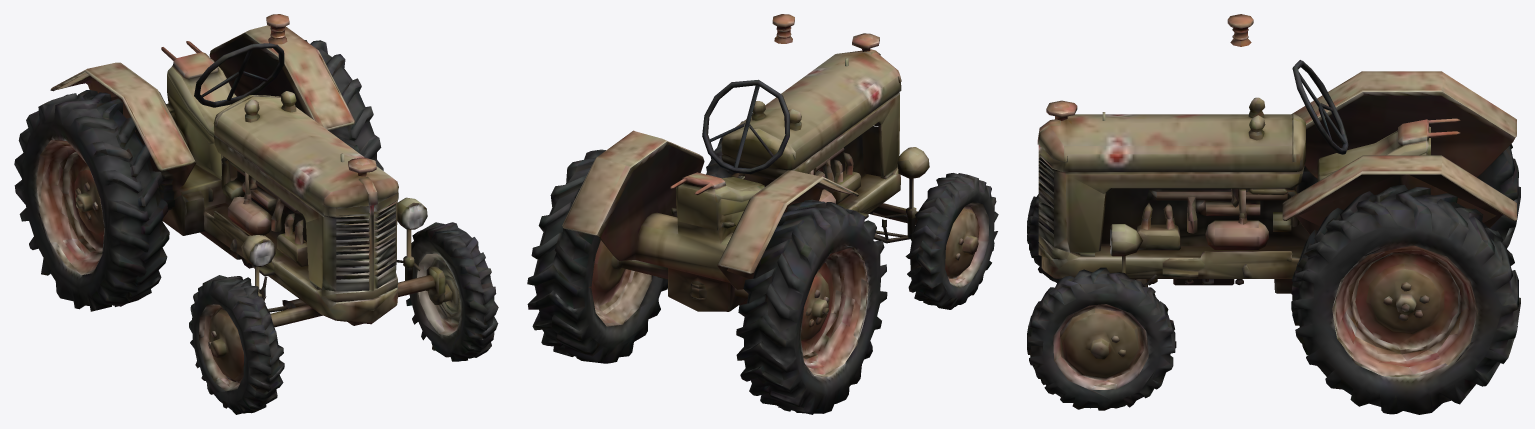
The model's file is tractor.glb.
3 views of the same model, side by side, from view 1: azimuth 30°, elevation 25°; view 2: azimuth 150°, elevation 25°; view 3: azimuth 270°, elevation 25° (orthographic). The views are drawn at different scales.
Visible parts, largest first — view 1: tripo_node_ed85822e-4b14-430d-afdd-f52cb96830eb; view 2: tripo_node_ed85822e-4b14-430d-afdd-f52cb96830eb; view 3: tripo_node_ed85822e-4b14-430d-afdd-f52cb96830eb.
Boxes of the visible parts, bbox=[...] form: tripo_node_ed85822e-4b14-430d-afdd-f52cb96830eb: bbox=[14, 14, 498, 414]; tripo_node_ed85822e-4b14-430d-afdd-f52cb96830eb: bbox=[527, 14, 998, 414]; tripo_node_ed85822e-4b14-430d-afdd-f52cb96830eb: bbox=[1027, 14, 1520, 414].
Size of the model in its own units: 0.6457 by 0.7262 by 0.9772.
Materials: 1 (1 with a texture image).
